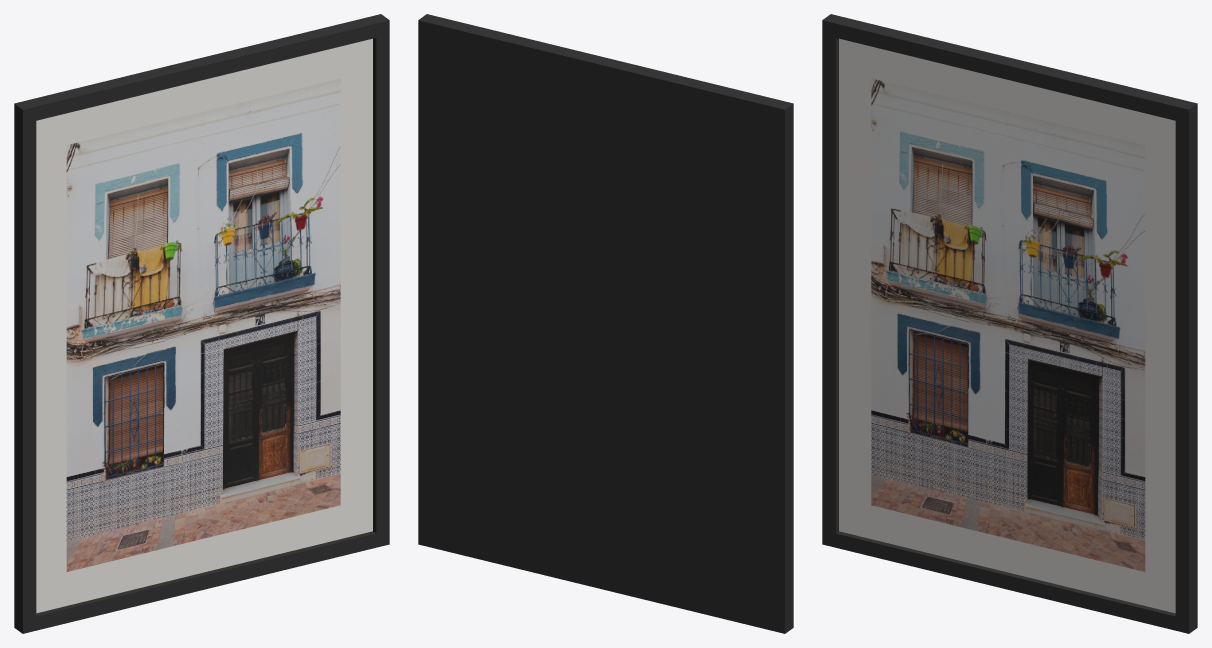
The model's file is nummer79-60.gltf.
The picture shows the model from 3 angles, left to right: view 1: azimuth 30°, elevation 25°; view 2: azimuth 150°, elevation 25°; view 3: azimuth 330°, elevation 25°; orthographic projection.
Parts seen in each view (by area): view 1: tavla; view 2: tavla; view 3: tavla.
Boxes of the visible parts, left/top/right/bottom form: tavla: left=14, top=14, right=389, bottom=633; tavla: left=418, top=14, right=793, bottom=633; tavla: left=822, top=14, right=1197, bottom=633.
Size of the model in its own units: 0.5397 by 0.7367 by 0.022.
Materials: 3 (1 with a texture image).
